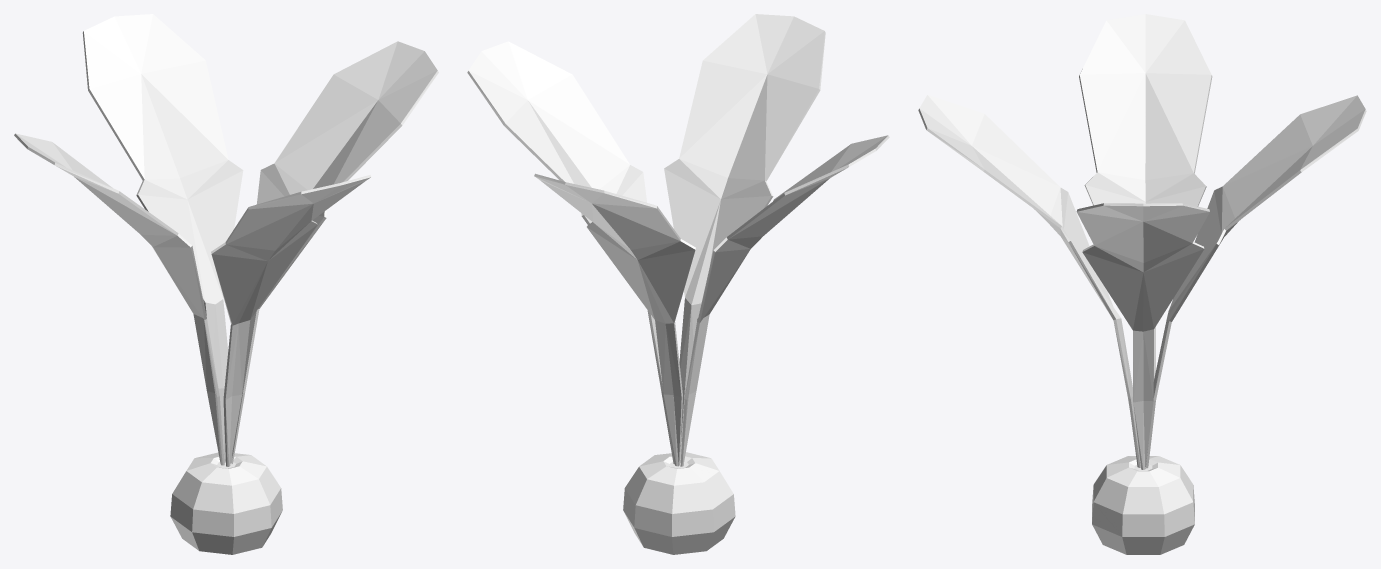
Rendered from Crop_Radish_STAGE_3_01.glb.
3 views of the same model, side by side, from view 1: azimuth 30°, elevation 25°; view 2: azimuth 150°, elevation 25°; view 3: azimuth 270°, elevation 25° (orthographic).
Visible parts, largest first — view 1: Crop_Radish_STAGE_3_01; view 2: Crop_Radish_STAGE_3_01; view 3: Crop_Radish_STAGE_3_01.
Part boxes in pixels (<box>): Crop_Radish_STAGE_3_01: <box>14,14,438,554</box>; Crop_Radish_STAGE_3_01: <box>467,14,889,554</box>; Crop_Radish_STAGE_3_01: <box>918,14,1366,554</box>.
Size of the model in its own units: 0.2494 by 0.262 by 0.248.
Materials: 1 (1 with a texture image).
